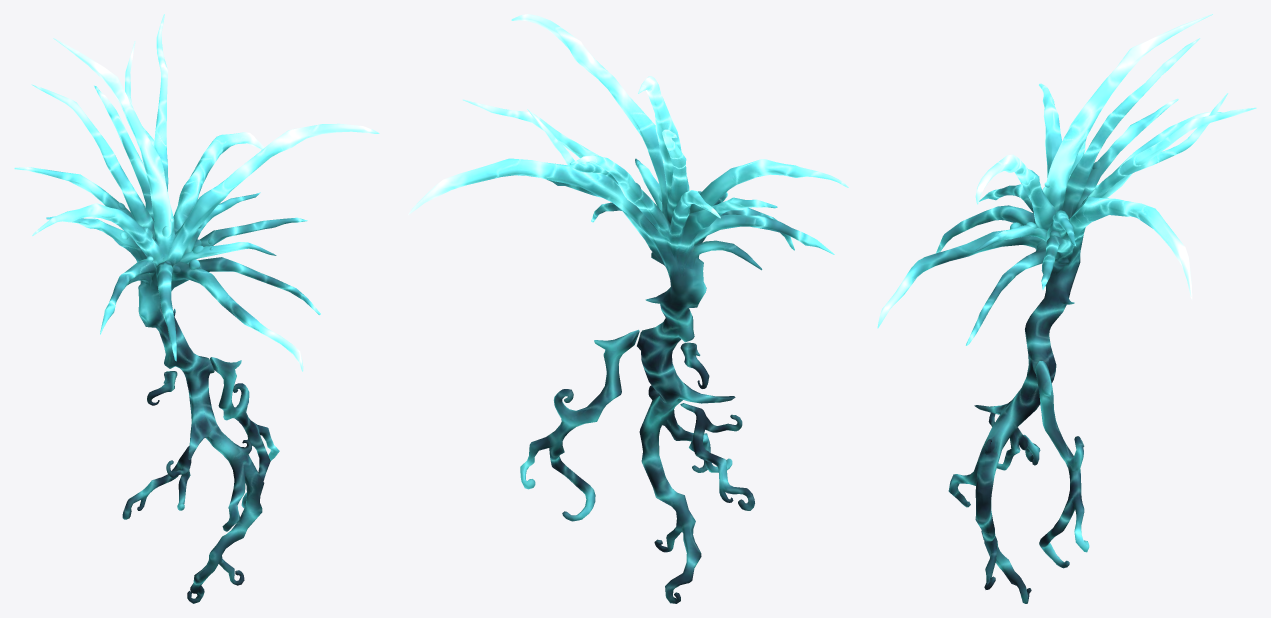
Rendered from caos_sts_chaosplant_01c_soma_v36.glb.
3 views of the same model, side by side, from view 1: azimuth 30°, elevation 25°; view 2: azimuth 150°, elevation 25°; view 3: azimuth 270°, elevation 25° (orthographic). The views are drawn at different scales.
Visible parts, largest first — view 1: caos_sts_chaosplant_01c; view 2: caos_sts_chaosplant_01c; view 3: caos_sts_chaosplant_01c.
Boxes of the visible parts, x1,y1,x2,y2 form: caos_sts_chaosplant_01c: (14, 14, 379, 603); caos_sts_chaosplant_01c: (408, 14, 848, 603); caos_sts_chaosplant_01c: (877, 14, 1256, 603).
Size of the model in its own units: 4.69 by 7.25 by 4.45.
Materials: 1 (1 with a texture image).
